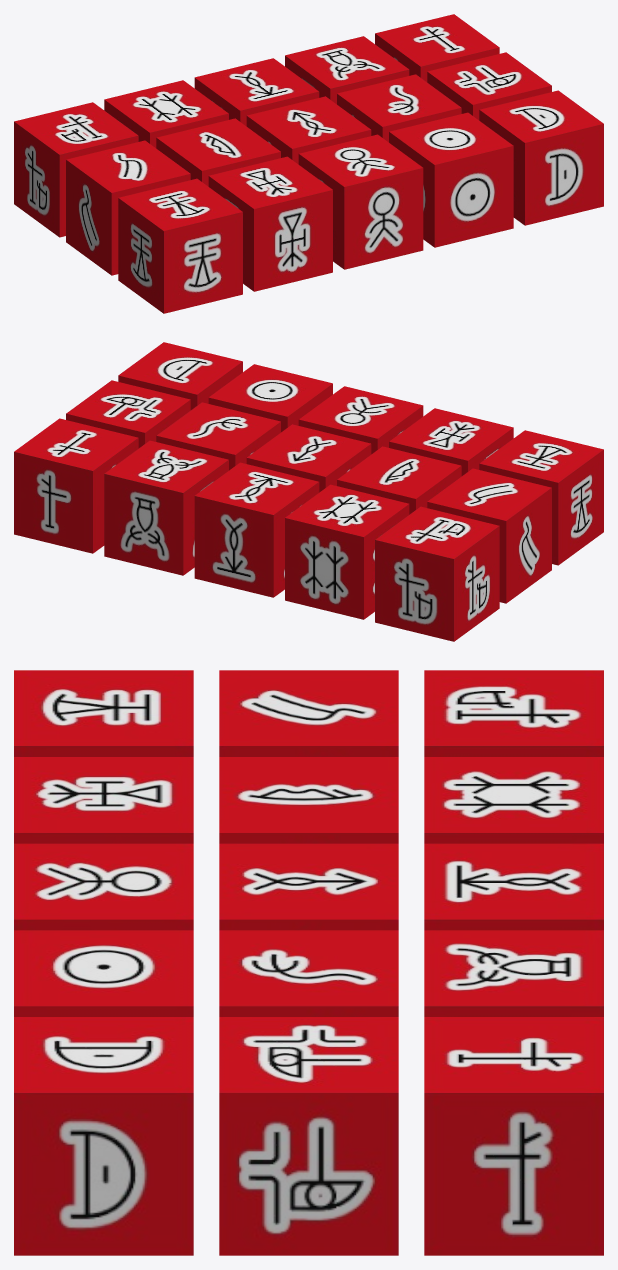
Rendered from real_kfs.fbx.
3 renders of one model, top to bottom at view 1: azimuth 30°, elevation 25°; view 2: azimuth 150°, elevation 25°; view 3: azimuth 270°, elevation 25°, orthographic. The views are drawn at different scales.
Parts seen in each view (by area): view 1: Real11, Real13, Real15, Real14, Real12, Real6, Real1, Real10, Real3, Real7, Real8, Real2 (+3 smaller); view 2: Real1, Real3, Real5, Real4, Real2, Real6, Real11, Real10, Real13, Real7, Real8, Real12 (+3 smaller); view 3: Real10, Real15, Real5, Real13, Real3, Real8, Real1, Real11, Real12, Real14, Real2, Real4 (+3 smaller).
Part boxes in pixels (bbox=[...]): Real11: bbox=[118, 178, 242, 313]; Real13: bbox=[298, 134, 423, 269]; Real15: bbox=[479, 90, 603, 225]; Real14: bbox=[389, 112, 513, 247]; Real12: bbox=[208, 156, 332, 291]; Real6: bbox=[66, 140, 190, 275]; Real1: bbox=[14, 102, 138, 237]; Real10: bbox=[427, 52, 551, 120]; Real3: bbox=[194, 58, 319, 126]; Real7: bbox=[156, 118, 280, 186]; Real8: bbox=[246, 96, 371, 164]; Real2: bbox=[104, 80, 228, 147]; Real1: bbox=[375, 506, 499, 641]; Real3: bbox=[194, 462, 319, 597]; Real5: bbox=[14, 418, 138, 553]; Real4: bbox=[104, 440, 228, 575]; Real2: bbox=[285, 484, 409, 619]; Real6: bbox=[427, 468, 551, 603]; Real11: bbox=[479, 430, 603, 565]; Real10: bbox=[66, 380, 190, 448]; Real13: bbox=[298, 386, 423, 454]; Real7: bbox=[337, 446, 461, 514]; Real8: bbox=[246, 424, 371, 492]; Real12: bbox=[389, 408, 513, 475]; Real10: bbox=[219, 1017, 398, 1255]; Real15: bbox=[14, 1017, 193, 1255]; Real5: bbox=[424, 1017, 603, 1255]; Real13: bbox=[14, 843, 193, 930]; Real3: bbox=[424, 843, 603, 930]; Real8: bbox=[219, 843, 398, 930]; Real1: bbox=[424, 670, 603, 756]; Real11: bbox=[14, 670, 193, 756]; Real12: bbox=[14, 757, 193, 843]; Real14: bbox=[14, 930, 193, 1016]; Real2: bbox=[424, 757, 603, 843]; Real4: bbox=[424, 930, 603, 1016].
Bounding box in the file's own units: 195 × 35 × 115.
